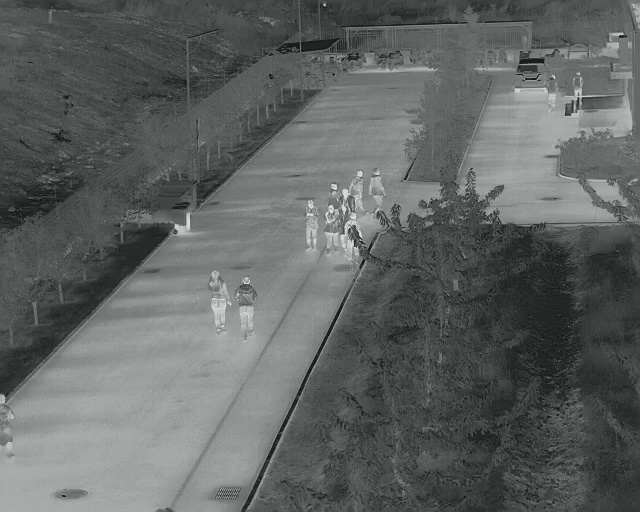person: (207, 267, 231, 334), (234, 274, 257, 343), (344, 212, 362, 265), (368, 165, 386, 217), (302, 198, 317, 255), (323, 202, 337, 256), (348, 169, 365, 213), (571, 70, 587, 112), (544, 71, 559, 111), (337, 187, 355, 218), (327, 180, 339, 208)
vehicle: (511, 57, 548, 93)
